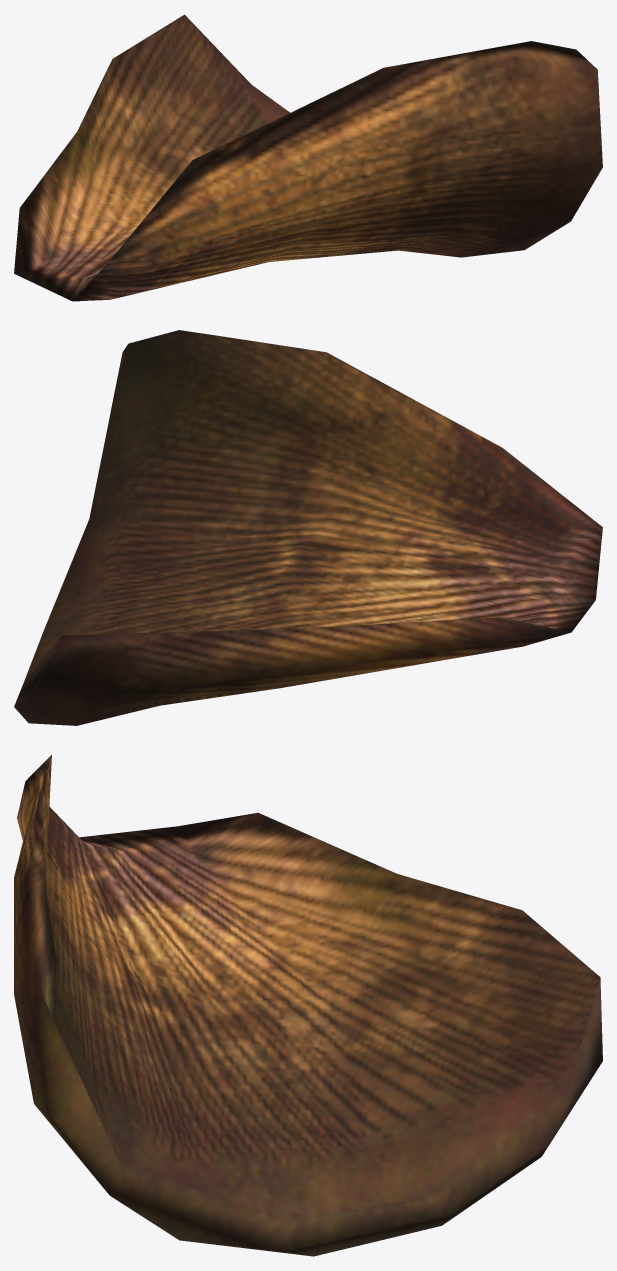
The model's file is 04_ING_mushroom_death_trumpet.glb.
The picture shows the model from 3 angles, top to bottom: view 1: azimuth 30°, elevation 25°; view 2: azimuth 150°, elevation 25°; view 3: azimuth 270°, elevation 25°; orthographic projection. The views are drawn at different scales.
Parts seen in each view (by area): view 1: 04_ING_mushroom_death_trumpet; view 2: 04_ING_mushroom_death_trumpet; view 3: 04_ING_mushroom_death_trumpet.
Part boxes in pixels (left/top/right/bottom): 04_ING_mushroom_death_trumpet: left=14, top=14, right=602, bottom=301; 04_ING_mushroom_death_trumpet: left=14, top=330, right=602, bottom=725; 04_ING_mushroom_death_trumpet: left=14, top=755, right=602, bottom=1256.
Bounding box in the file's own units: 0.082 × 0.0437 × 0.0661.
1 material, 1 textured.
